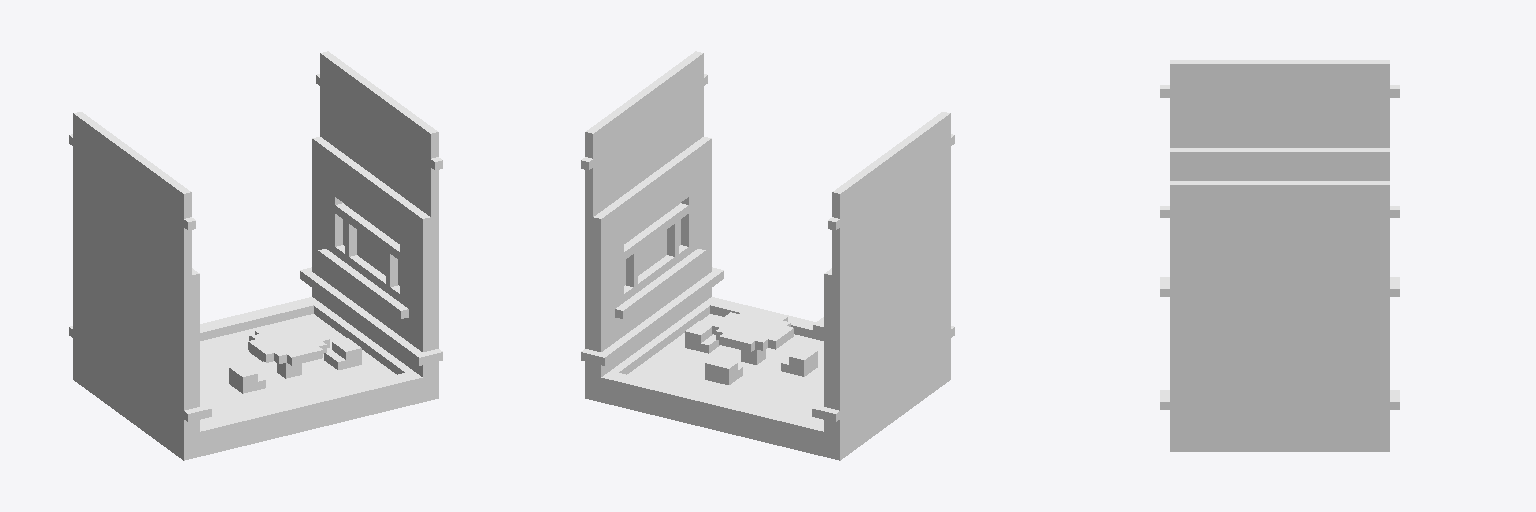
The model's file is tile_3_middle_nr.obj.
The picture shows the model from 3 angles: view 1: azimuth 30°, elevation 25°; view 2: azimuth 150°, elevation 25°; view 3: azimuth 270°, elevation 25°; orthographic projection.
Visible parts, largest first — view 1: object 1; view 2: object 1; view 3: object 1.
Part boxes in pixels (bbox=[...]): object 1: bbox=[69, 51, 442, 460]; object 1: bbox=[581, 51, 954, 460]; object 1: bbox=[1160, 60, 1399, 451].
Size of the model in its own units: 3.2 by 3.2 by 2.6.